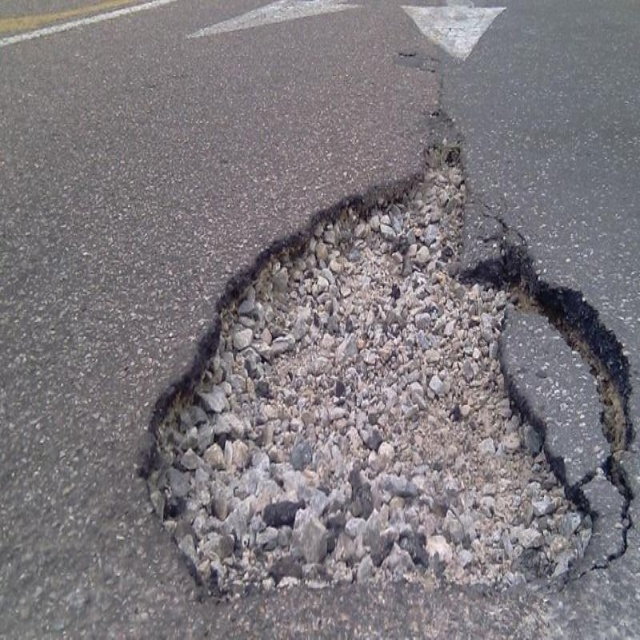pothole: (156, 135, 633, 590)
